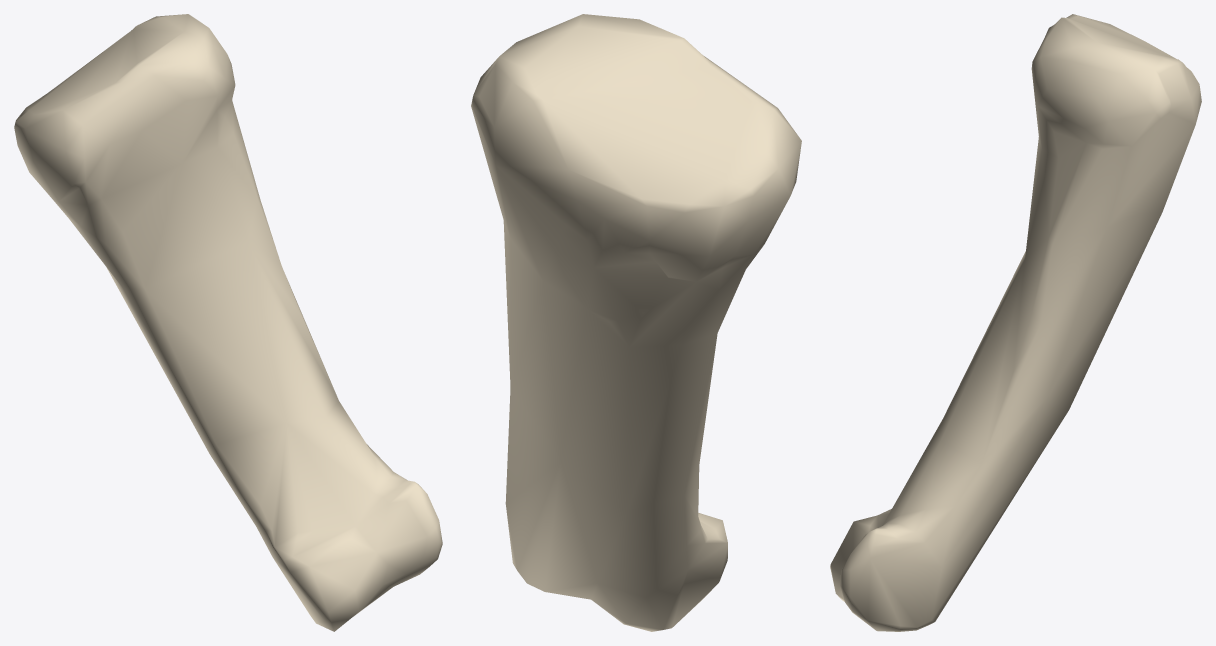
Rendered from proximal-phalanx-of-second-finger-of-hand-l.glb.
3 renders of one model, left to right at view 1: azimuth 30°, elevation 25°; view 2: azimuth 150°, elevation 25°; view 3: azimuth 270°, elevation 25°, orthographic. The views are drawn at different scales.
Visible parts, largest first — view 1: Proximal phalanx of second finger of hand.l; view 2: Proximal phalanx of second finger of hand.l; view 3: Proximal phalanx of second finger of hand.l.
Boxes of the visible parts, <box> form: Proximal phalanx of second finger of hand.l: <box>14,14,442,631</box>; Proximal phalanx of second finger of hand.l: <box>471,14,801,631</box>; Proximal phalanx of second finger of hand.l: <box>830,14,1201,631</box>.
Size of the model in its own units: 0.0227 by 0.0389 by 0.0237.
